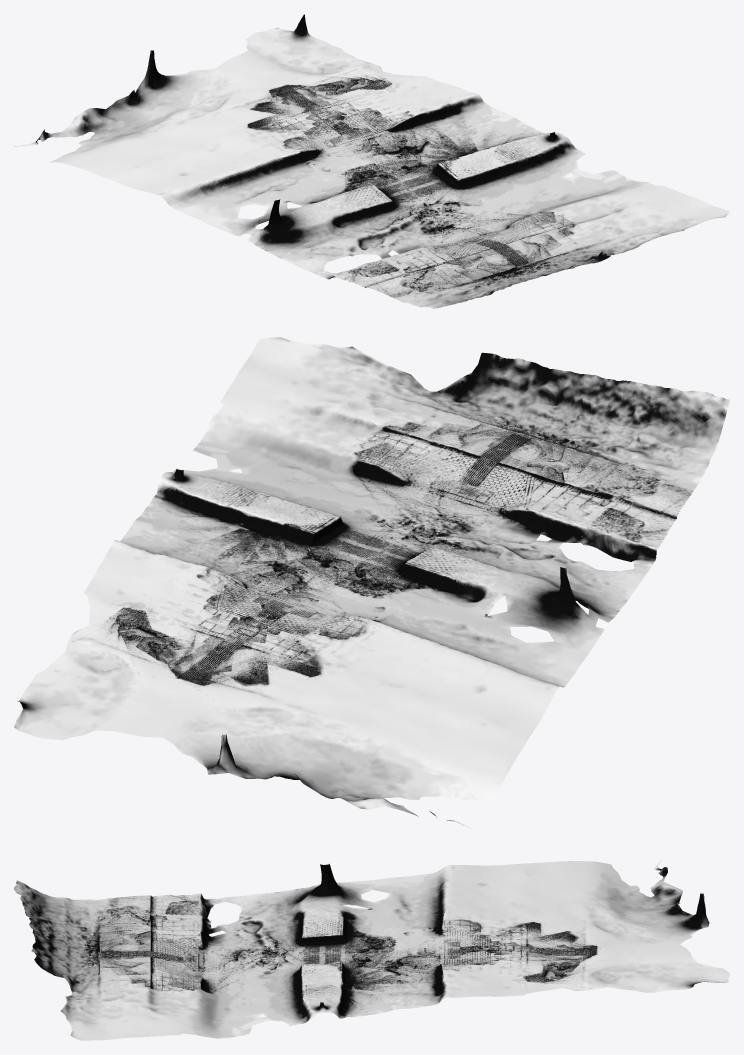
The model's file is HjaKronunniBlindViewNyttTest-transformed.glb.
The picture shows the model from 3 angles, top to bottom: view 1: azimuth 30°, elevation 25°; view 2: azimuth 150°, elevation 25°; view 3: azimuth 270°, elevation 25°; orthographic projection. The views are drawn at different scales.
Visible parts, largest first — view 1: Mesh_0; view 2: Mesh_0; view 3: Mesh_0.
Part boxes in pixels (x1,y1,x2,y2): Mesh_0: [14, 14, 729, 308]; Mesh_0: [14, 337, 729, 828]; Mesh_0: [14, 860, 729, 1040].
Size of the model in its own units: 24.42 by 2.38 by 33.82.
1 material, 1 textured.
